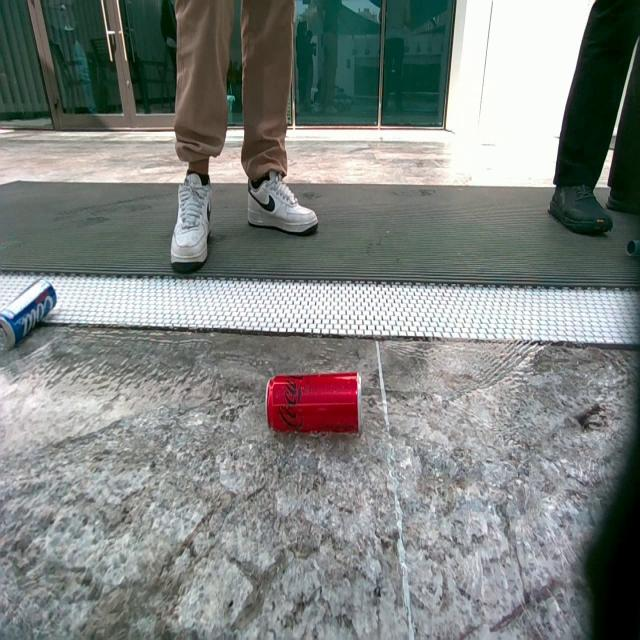Cans: (264, 372, 358, 436), (0, 273, 57, 377), (628, 239, 639, 256)
